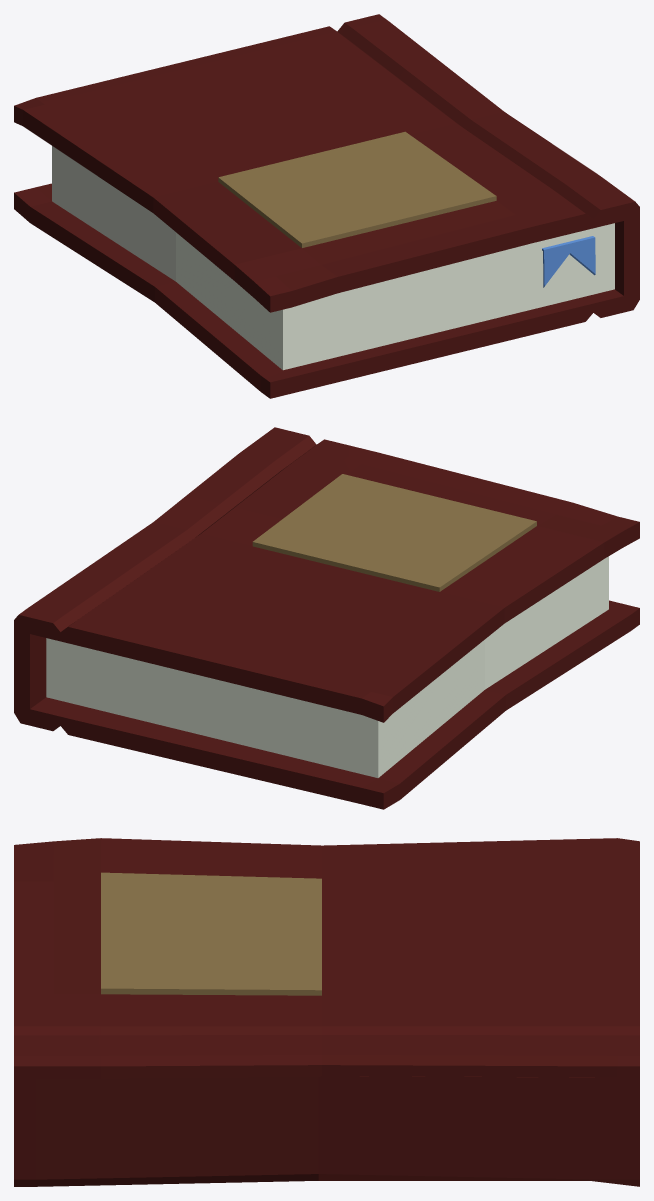
Rendered from buku.fbx.
3 renders of one model, top to bottom at view 1: azimuth 30°, elevation 25°; view 2: azimuth 150°, elevation 25°; view 3: azimuth 270°, elevation 25°, orthographic. The views are drawn at different scales.
Parts seen in each view (by area): view 1: Plane.400; view 2: Plane.400; view 3: Plane.400.
Part boxes in pixels (x1,y1,x2,y2): Plane.400: (14,14,639,398); Plane.400: (14,427,639,809); Plane.400: (14,838,639,1186).
Size of the model in its own units: 48.29 by 14.08 by 57.95.
